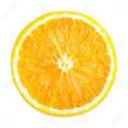orange: (6, 10, 119, 118)
